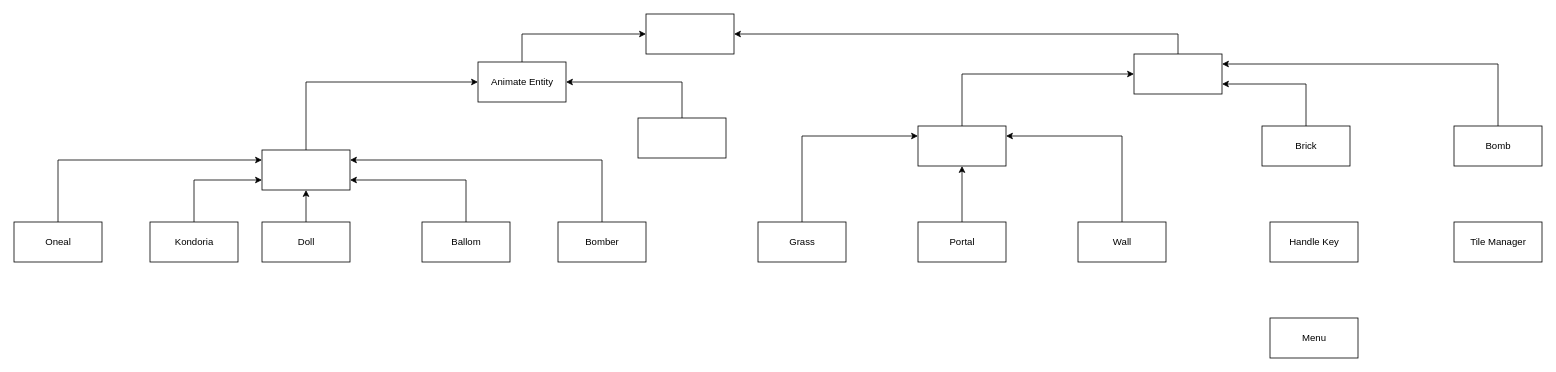
This 1556x372 diagram has some shape labels left out. Here are the shapes that lost their labels. From the top down, the centre of each, then its label:
point (689, 33): Entity
point (1177, 73): Static Entity
point (681, 137): Flame
point (961, 145): Block
point (305, 169): Dynamic Entity
